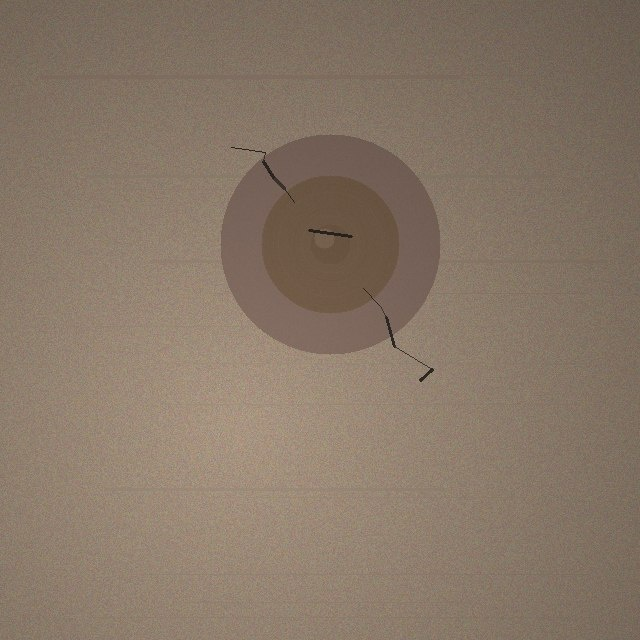crack: (220, 134, 440, 354)
